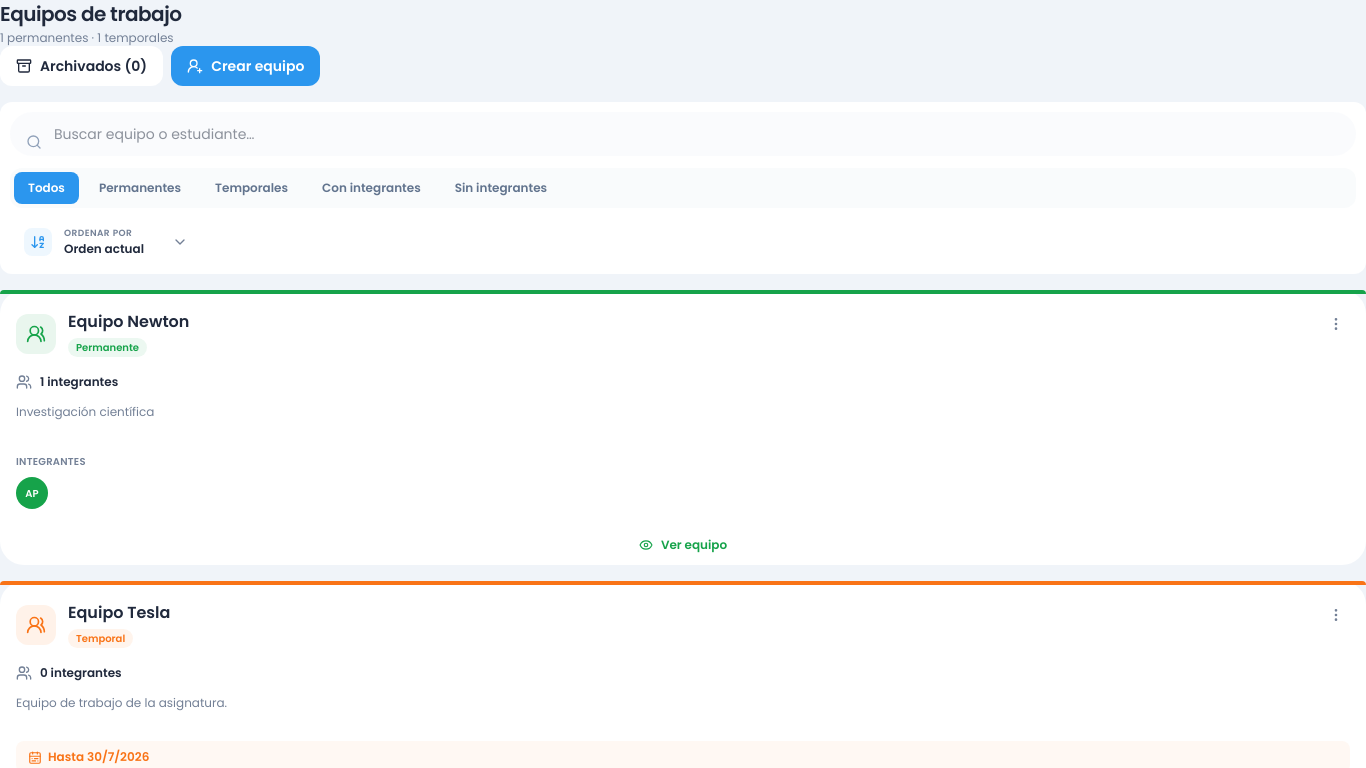
Test: panel de equipos del curso › abre la creación como una pantalla interna y permite seleccionar integrantes
Expected: the heading "Equipo Newton" is shown, x1=68 y1=310 x2=189 y2=334
Click the button "Crear equipo". click: (246, 66)
box: x1=171 y1=46 x2=320 y2=86
(page scrolled)
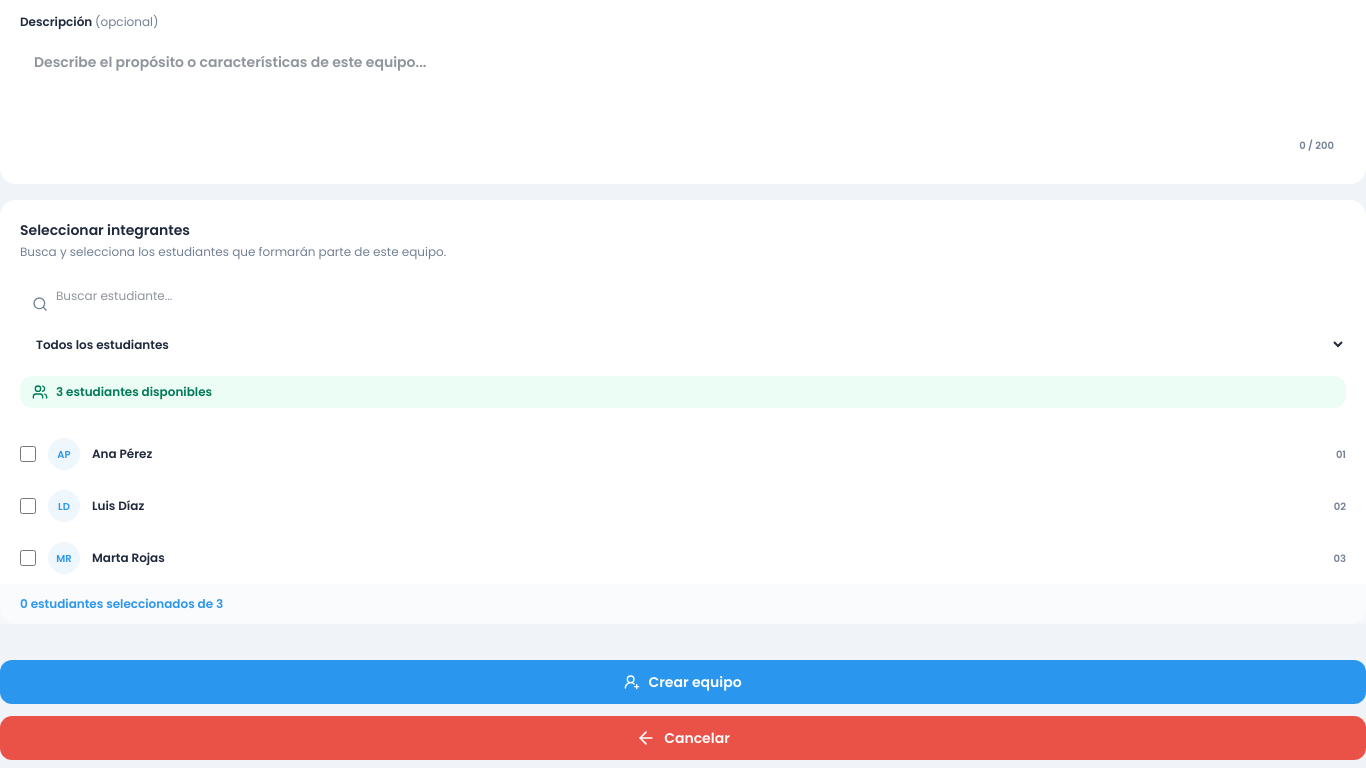
Result: the heading "Seleccionar integrantes" is shown at x1=20 y1=220 x2=190 y2=240
Click the checkbox labelled "LD Luis Díaz 02". click: (28, 506)
box: x1=20 y1=498 x2=36 y2=514
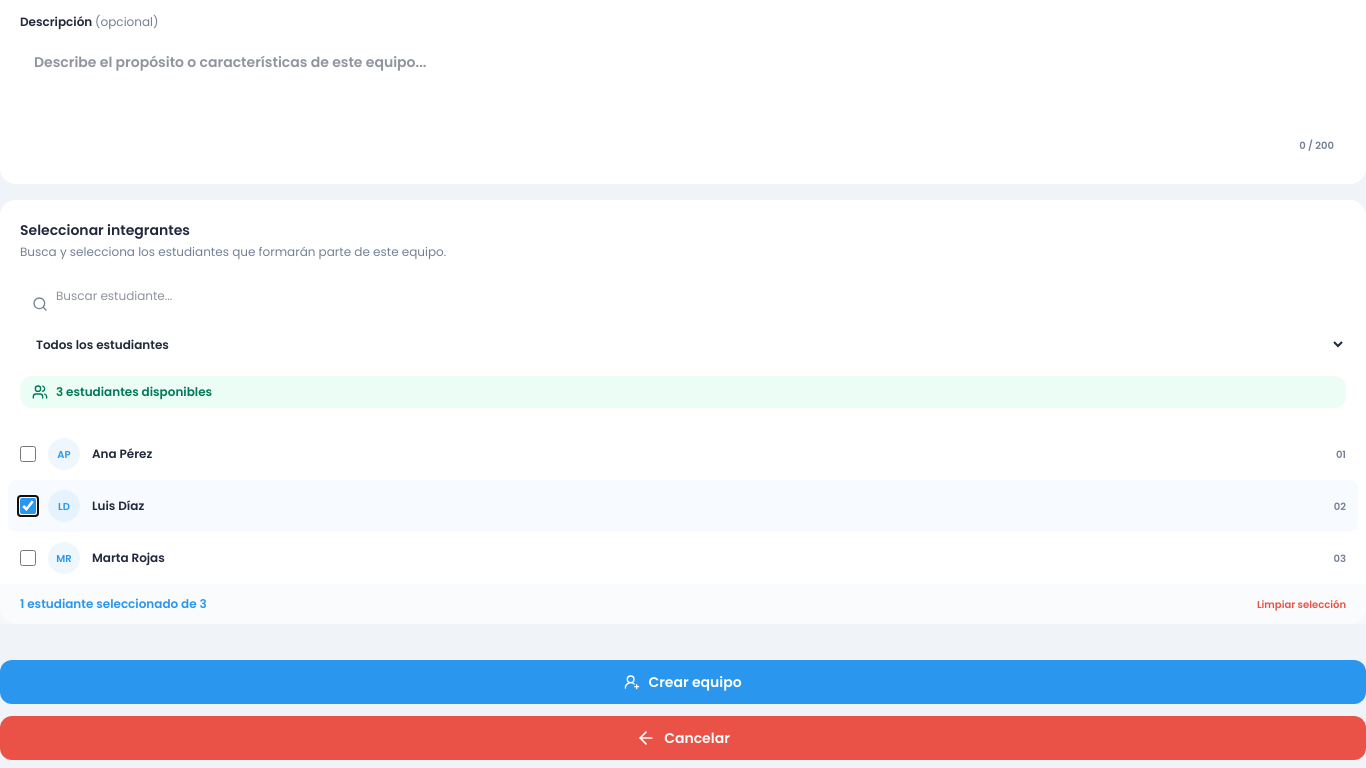
Result: the text "1 estudiante seleccionado de 3" is shown at x1=20 y1=596 x2=207 y2=612
